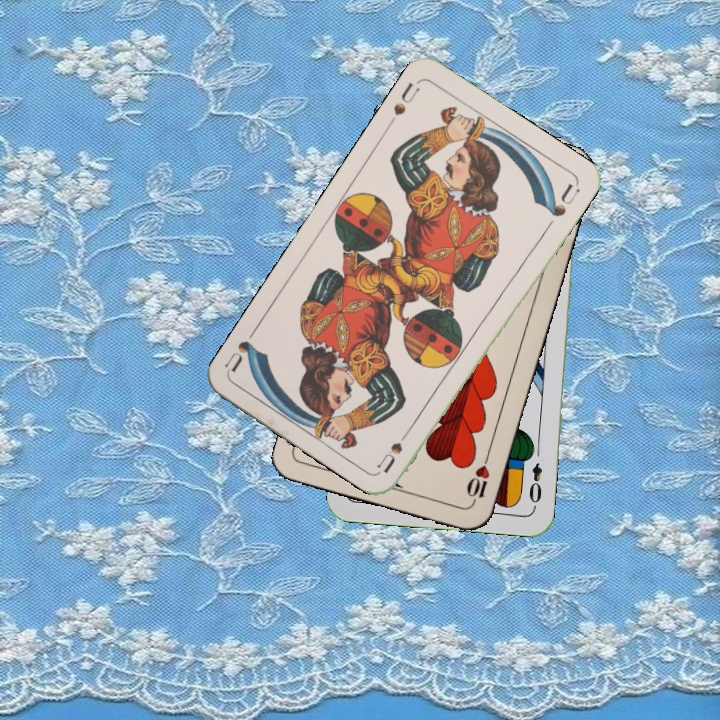EO: (525, 459, 545, 511)
H10: (462, 449, 492, 507)
SU: (374, 421, 416, 476), (389, 78, 423, 118)
